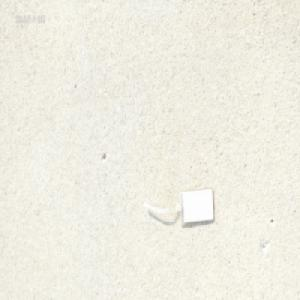LuggageTag: (143, 185, 214, 226)
